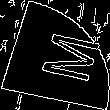M_W: (17, 26, 93, 84)
